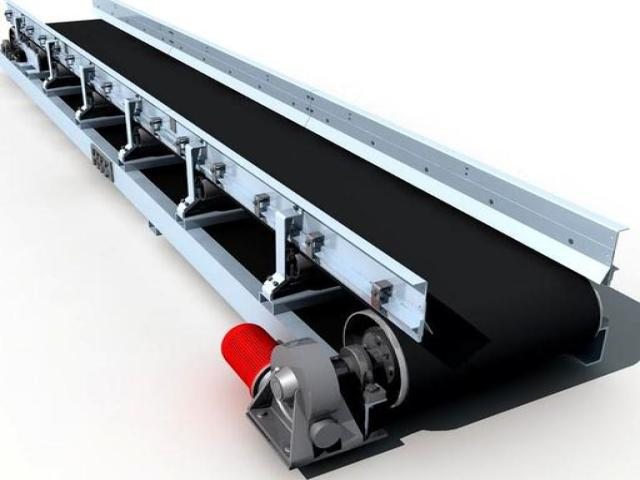conveyor: (0, 0, 639, 478)
